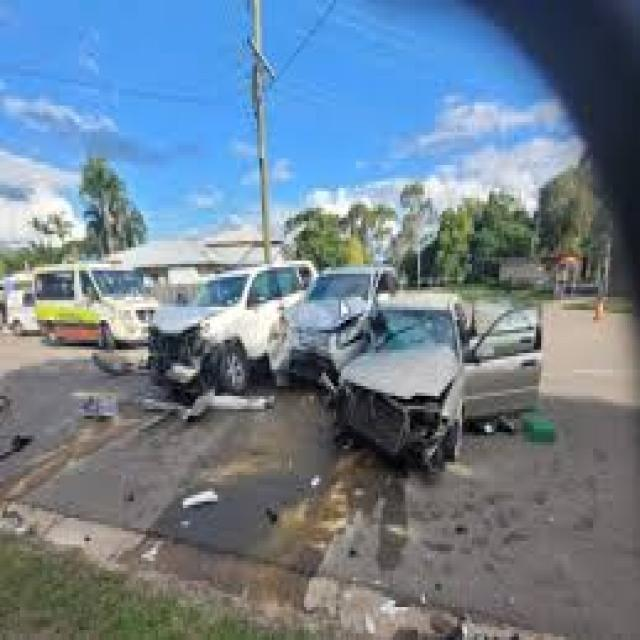accident: (148, 216, 500, 494)
